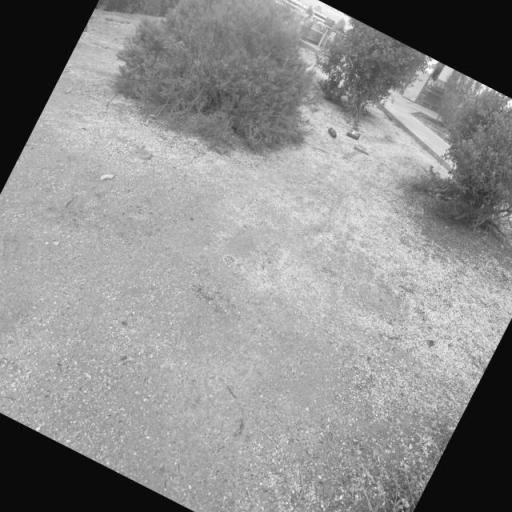bottle: (344, 127, 362, 142), (326, 127, 340, 139)
mallet: (353, 144, 370, 158)
